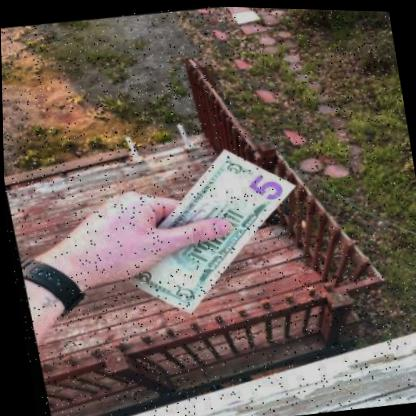dollar_back: (114, 147, 292, 313)
